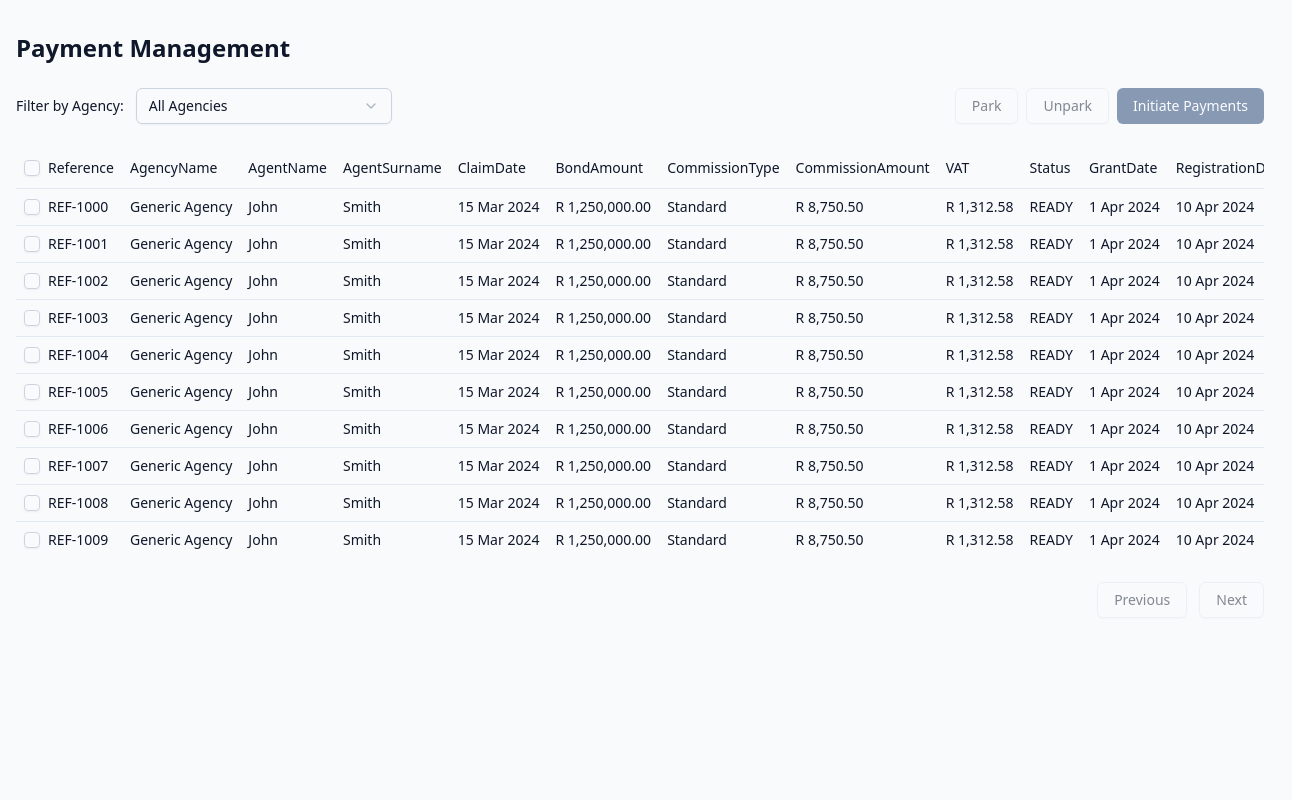
Test case: Header checkbox deselects all rows (AC-4) › unticking header checkbox after selecting all unchecks all rows and disables buttons
// Select all first
What coordinates should you click on to do the following:
click the checkbox named "select all"
I would click on:
 (32, 168)
Its box is left=24, top=160, right=40, bottom=176.
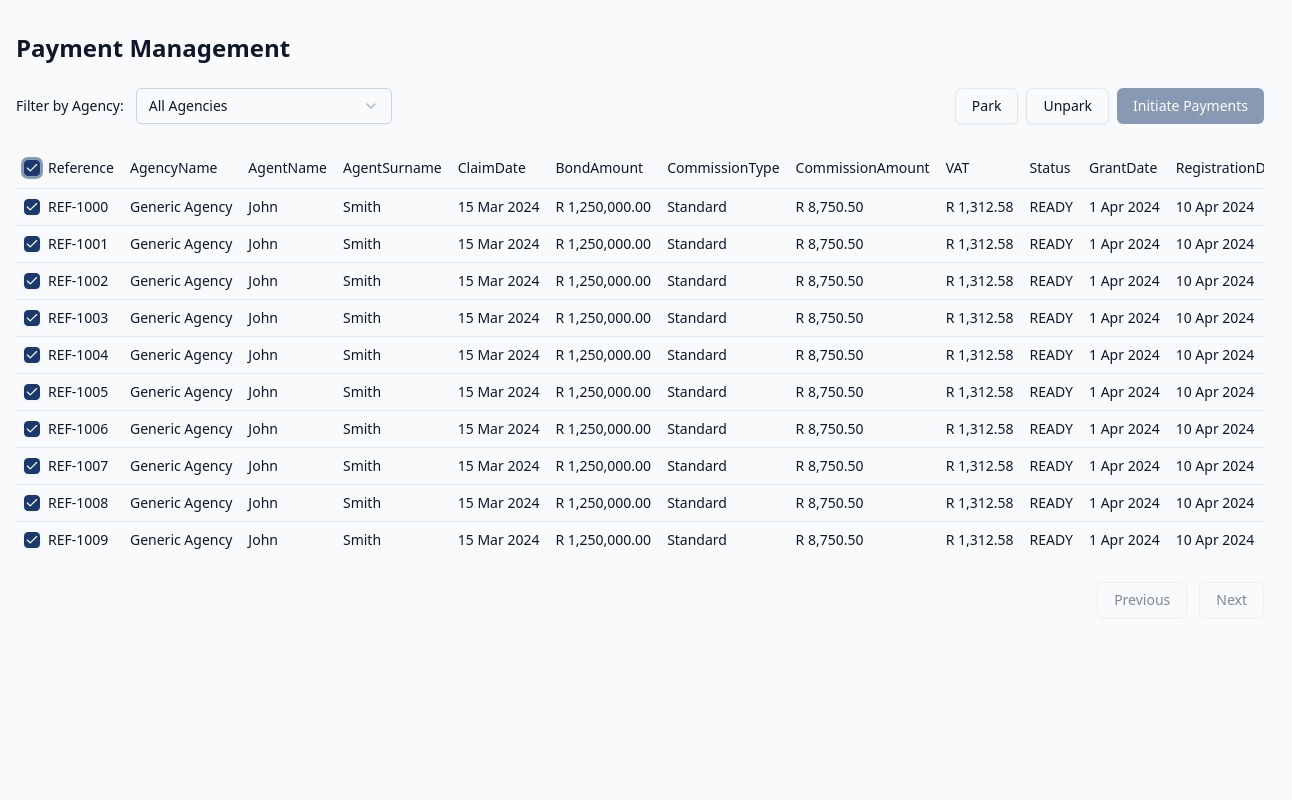
// Then deselect all
What coordinates should you click on to do the following:
click the checkbox named "select all"
I would click on:
 (32, 168)
Its box is left=24, top=160, right=40, bottom=176.
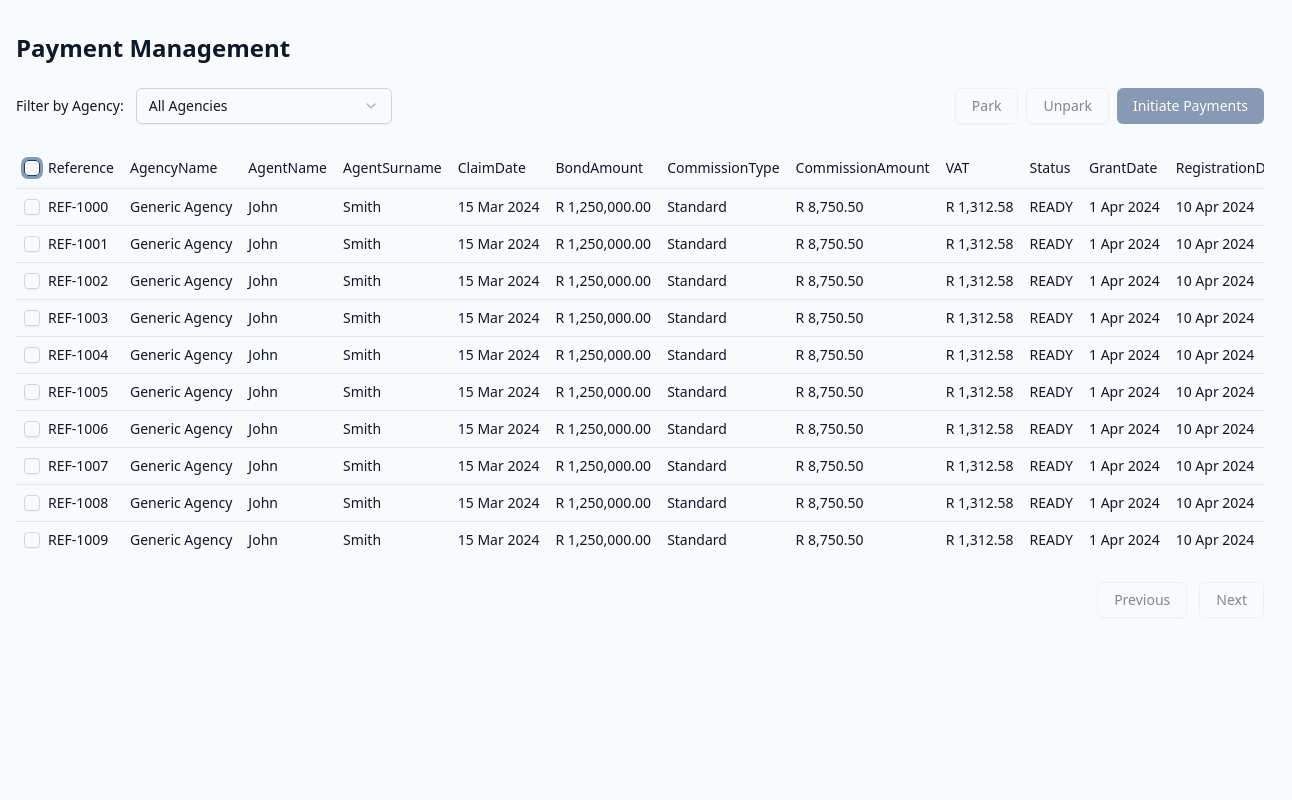
Now the checkbox named "select payment" is not checked, box left=24, top=198, right=40, bottom=214
Now the button "Park" is disabled, box left=955, top=88, right=1018, bottom=124
Now the button "Unpark" is disabled, box left=1026, top=88, right=1109, bottom=124
